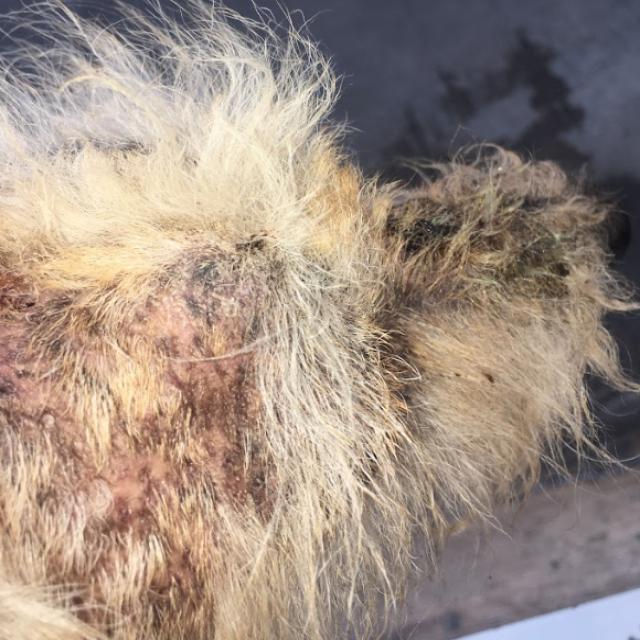demodicosis: (0, 282, 280, 586)
